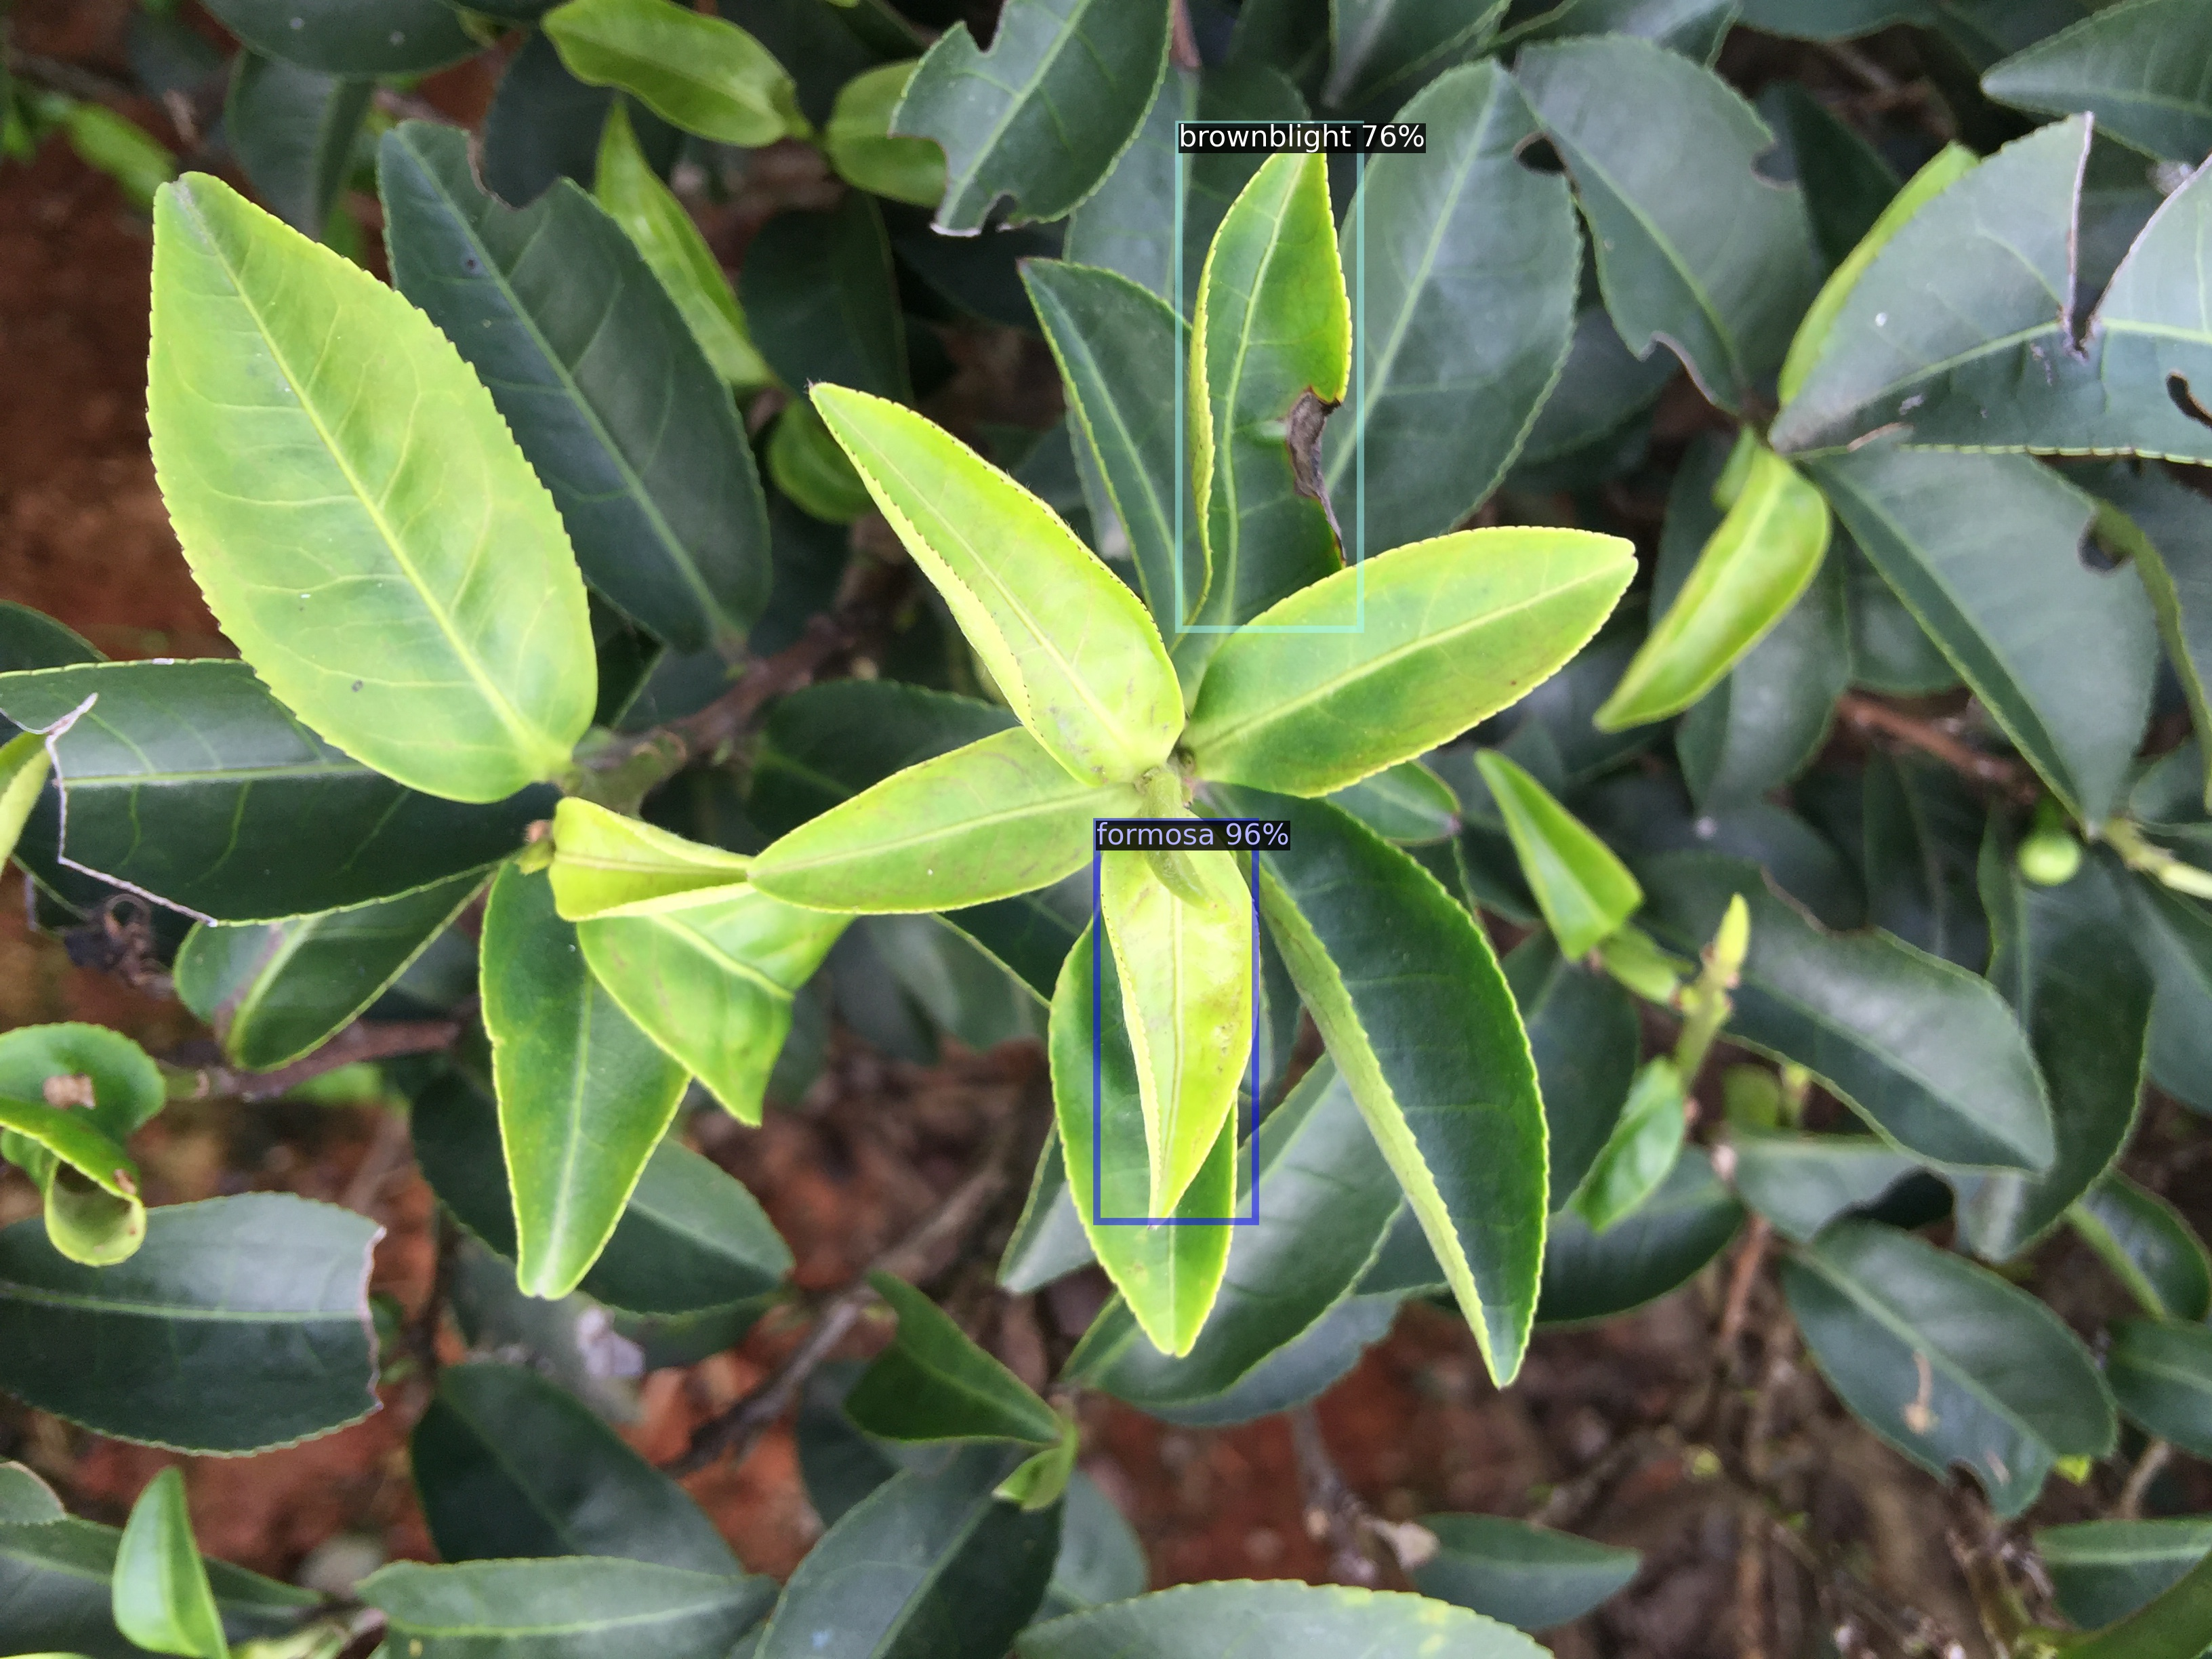brownblight: (1179, 124, 1360, 629)
formosa: (1097, 821, 1254, 1222)
